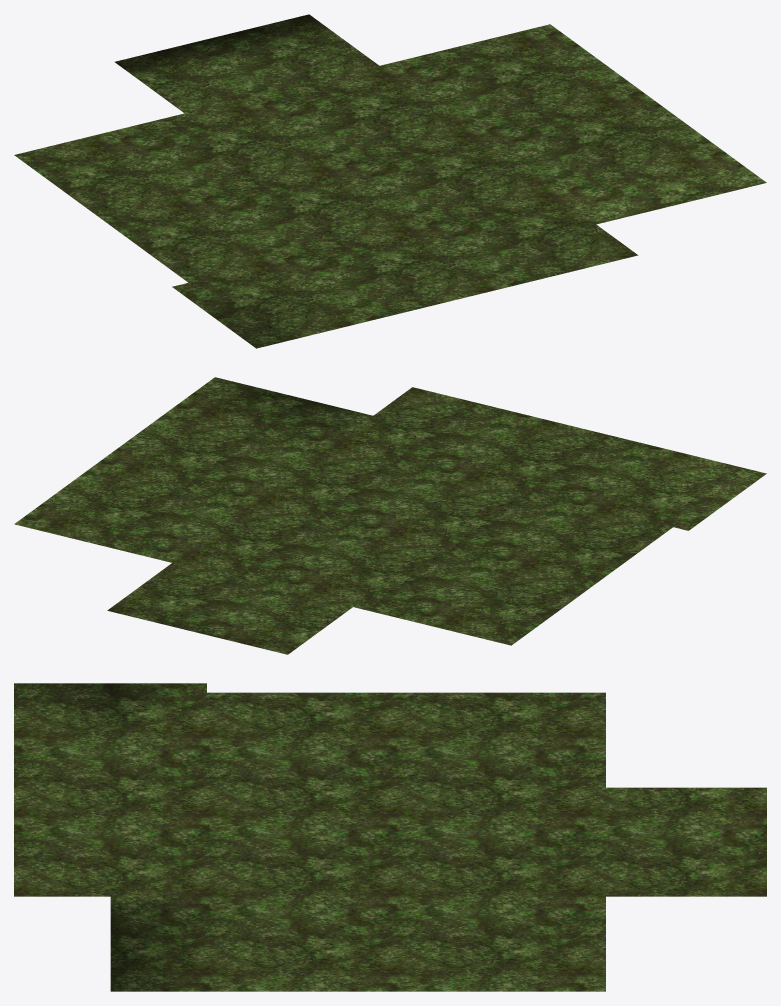
The model's file is OVERHILL_A_01_OBJECT74.fbx.
The picture shows the model from 3 angles, top to bottom: view 1: azimuth 30°, elevation 25°; view 2: azimuth 150°, elevation 25°; view 3: azimuth 270°, elevation 25°; orthographic projection. The views are drawn at different scales.
Parts seen in each view (by area): view 1: OVERHILL_A_01_OBJECT74; view 2: OVERHILL_A_01_OBJECT74; view 3: OVERHILL_A_01_OBJECT74.
Boxes of the visible parts, x1,y1,x2,y2 form: OVERHILL_A_01_OBJECT74: [14, 14, 766, 348]; OVERHILL_A_01_OBJECT74: [14, 377, 766, 654]; OVERHILL_A_01_OBJECT74: [14, 683, 766, 991].
Bounding box in the file's own units: 113406 × 0.0466 × 117003.
Materials: 1 (1 with a texture image).
